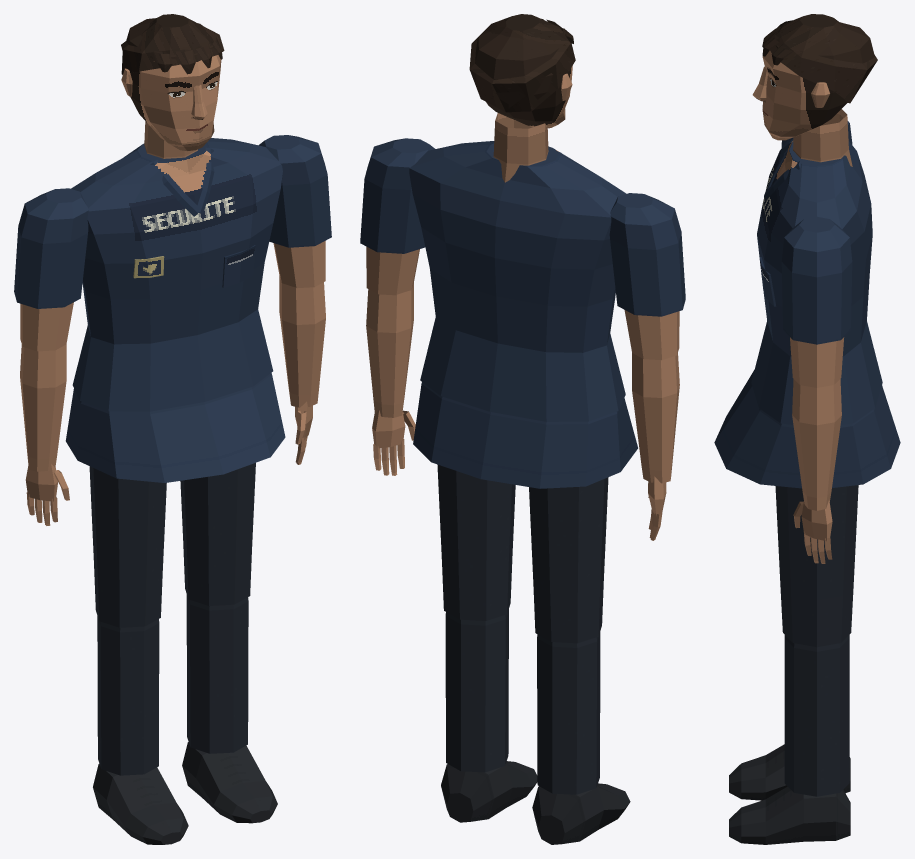
File: security_guard.glb
The picture shows the model from 3 angles, left to right: view 1: azimuth 30°, elevation 25°; view 2: azimuth 150°, elevation 25°; view 3: azimuth 270°, elevation 25°; orthographic projection. The views are drawn at different scales.
Parts seen in each view (by area): view 1: scrub_top, scrub_skirt, thigh_r, upper_arm_r, calf_r, calf_l, thigh_l, upper_arm_l, head_skull, shoe_l, shoe_r, lower_arm_r (+5 smaller); view 2: scrub_top, scrub_skirt, thigh_r, thigh_l, upper_arm_r, calf_l, calf_r, upper_arm_l, lower_arm_r, lower_arm_l, hair_cap, head_skull (+4 smaller); view 3: scrub_top, upper_arm_l, calf_l, thigh_l, scrub_skirt, shoe_l, head_skull, lower_arm_l, hair_cap, shoe_r, neck_column, palm_l (+2 smaller).
Boxes of the visible parts, x1,y1,x2,y2 form: scrub_top: (71,138,282,411); scrub_skirt: (65,373,285,482); thigh_r: (89,466,166,627); upper_arm_r: (14,188,88,351); calf_r: (97,616,159,775); calf_l: (186,594,248,753); thigh_l: (180,463,255,605); upper_arm_l: (259,135,331,288); head_skull: (126,18,221,150); shoe_l: (182,742,277,823); shoe_r: (93,763,188,844); lower_arm_r: (20,344,66,471); scrub_top: (409,141,626,421); scrub_skirt: (413,382,637,488); thigh_r: (529,477,608,643); thigh_l: (437,464,515,620); upper_arm_r: (609,193,685,360); calf_l: (445,609,508,772); calf_r: (537,632,600,794); upper_arm_l: (360,138,434,295); lower_arm_r: (632,353,679,483); lower_arm_l: (366,283,413,417); hair_cap: (469,14,575,112); head_skull: (475,31,572,128); scrub_top: (751,137,882,424); upper_arm_l: (781,216,852,387); calf_l: (784,635,849,796); thigh_l: (775,485,858,647); scrub_skirt: (714,370,900,488); shoe_l: (729,786,850,844); head_skull: (762,22,874,140); lower_arm_l: (792,379,841,510); hair_cap: (766,14,877,103); shoe_r: (729,744,850,800); neck_column: (793,109,852,166); palm_l: (801,500,832,541).
Bounding box in the file's own units: 0.7779 × 1.87 × 0.3969.
Materials: 1 (1 with a texture image).
